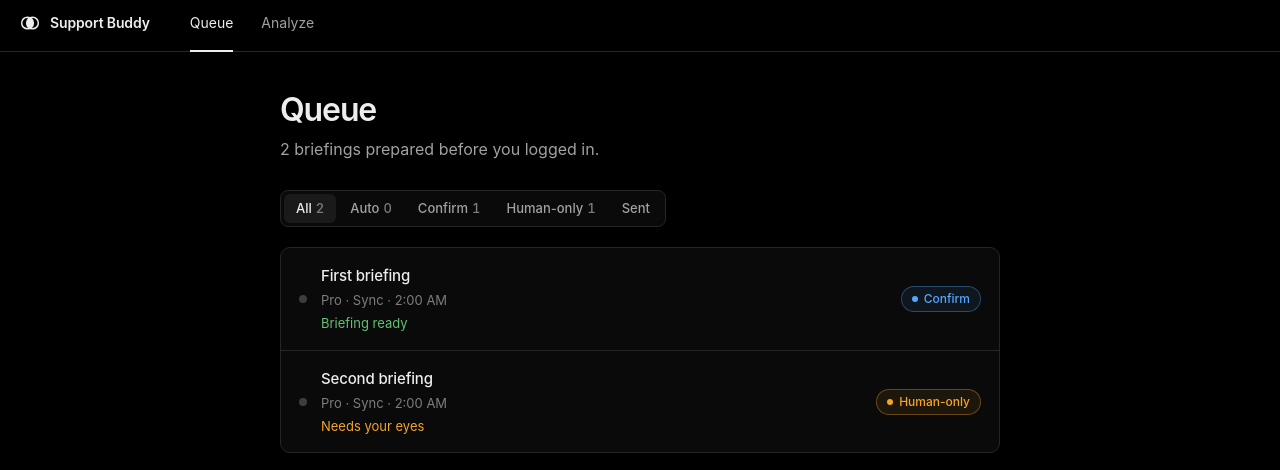
Test: Queue filters and the Sent tab › explains an empty Sent tab
expect the heading "First briefing" is shown: met, box [321, 266, 410, 285]
What coordinates should you click on to do the following:
click the tab "Sent"
I would click on:
 (636, 209)
Its box is [610, 194, 662, 223].
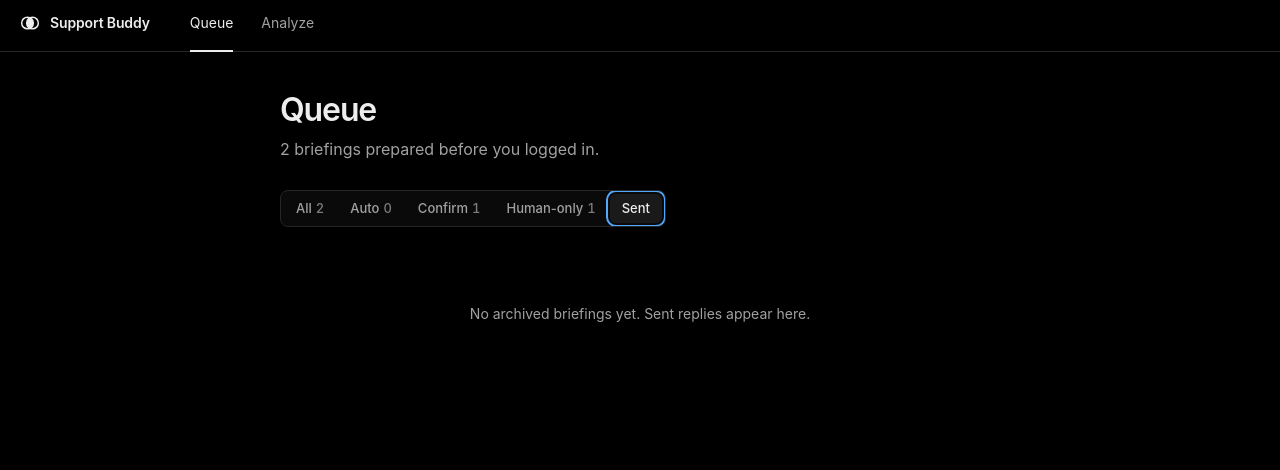
expect the text "No archived briefings yet. Sent replies appear here." is shown: met, box [470, 305, 810, 322]
